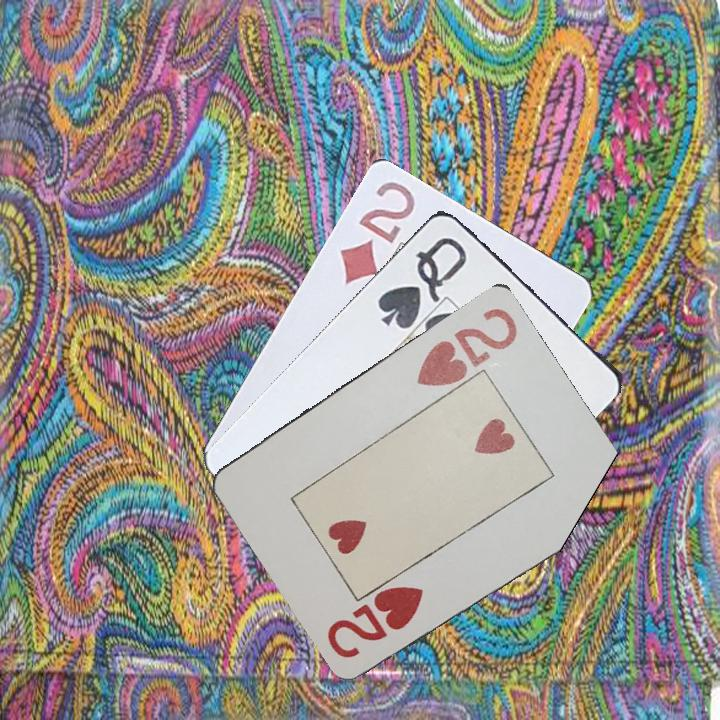2d: (336, 176, 419, 288)
2h: (413, 303, 521, 391), (323, 581, 427, 661)
Qs: (374, 232, 470, 332)
